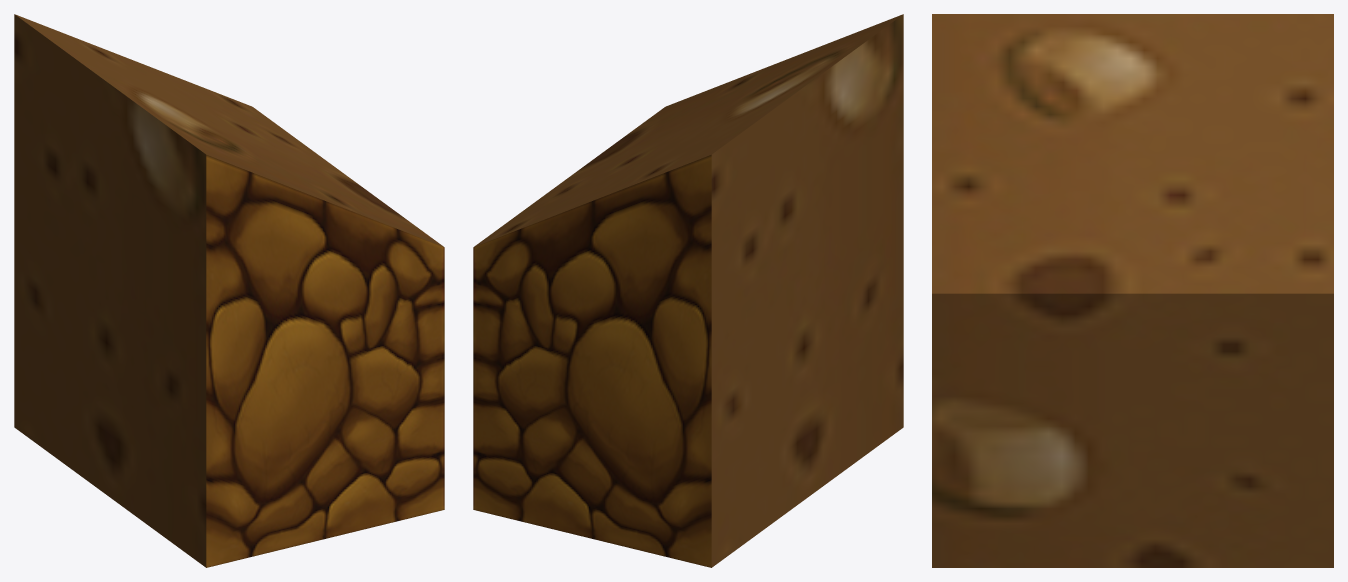
Rendered from Road_1.fbx.
3 renders of one model, left to right at view 1: azimuth 30°, elevation 25°; view 2: azimuth 150°, elevation 25°; view 3: azimuth 270°, elevation 25°, orthographic. The views are drawn at different scales.
Visible parts, largest first — view 1: Road_1; view 2: Road_1; view 3: Road_1.
Part boxes in pixels (x1,y1,x2,y2): Road_1: (14,14,444,567); Road_1: (473,14,903,567); Road_1: (932,14,1333,567).
Size of the model in its own units: 3.05 by 5.05 by 4.26.
1 material, 1 textured.
